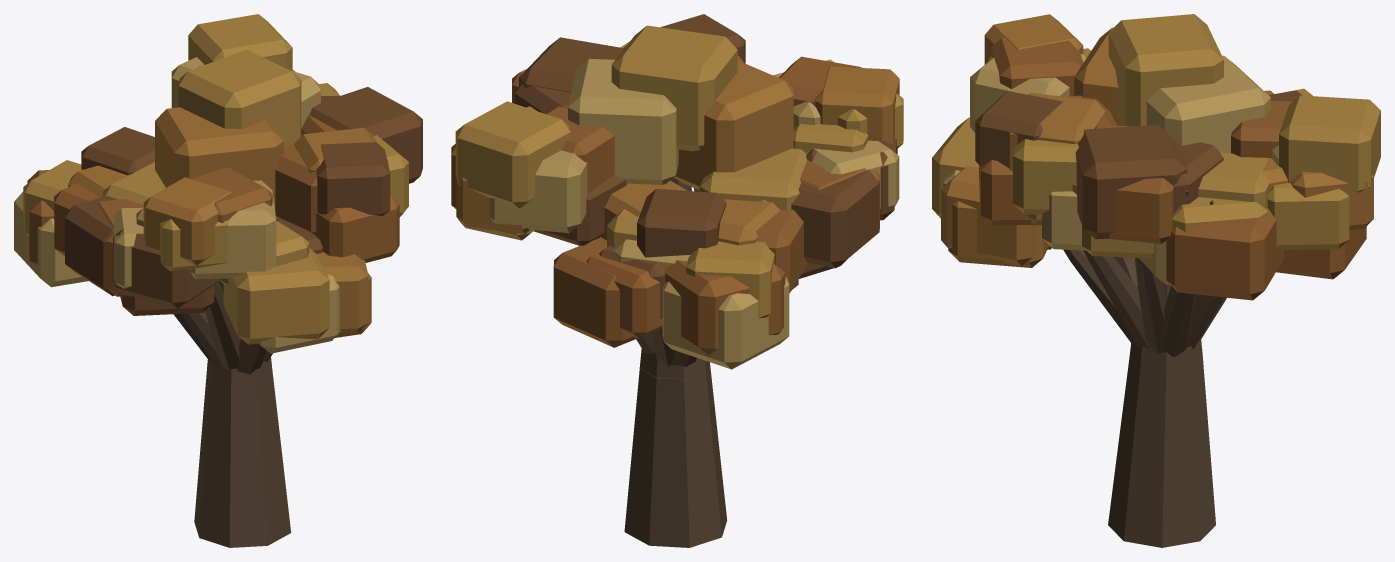
File: oak_ancient_autumn_3.glb
The picture shows the model from 3 angles, left to right: view 1: azimuth 30°, elevation 25°; view 2: azimuth 150°, elevation 25°; view 3: azimuth 270°, elevation 25°; orthographic projection. The views are drawn at different scales.
Parts seen in each view (by area): view 1: oak_ancient_autumn_3; view 2: oak_ancient_autumn_3; view 3: oak_ancient_autumn_3.
Part boxes in pixels (x1,y1,x2,y2): oak_ancient_autumn_3: [14, 14, 422, 547]; oak_ancient_autumn_3: [451, 14, 903, 547]; oak_ancient_autumn_3: [932, 14, 1380, 547].
Size of the model in its own units: 18.79 by 24 by 19.92.
